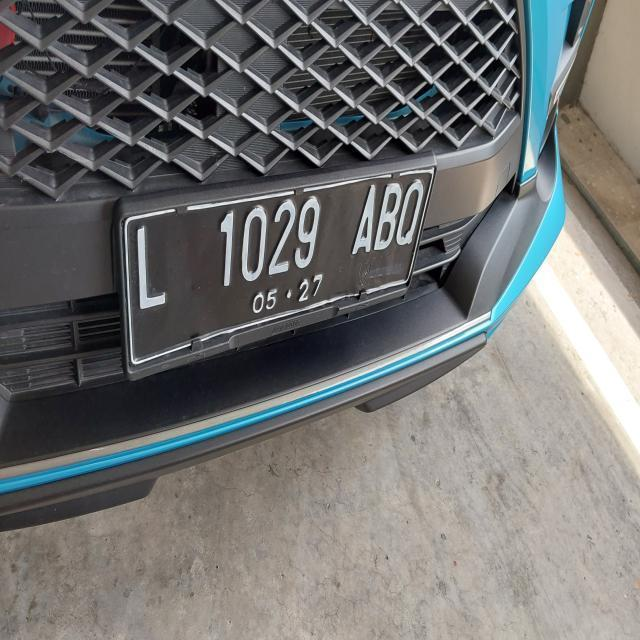0: (238, 193, 274, 288)
1: (200, 198, 242, 307)
2: (264, 190, 300, 290)
9: (292, 190, 326, 270)
A: (344, 182, 382, 270)
B: (372, 172, 403, 260)
L: (130, 221, 180, 324)
Q: (395, 165, 432, 278)
